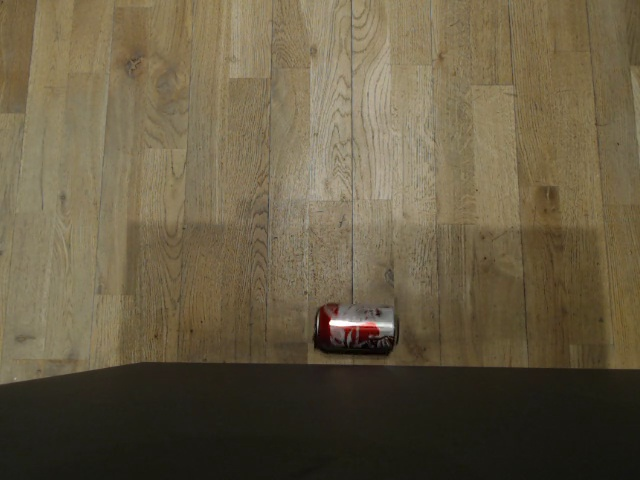cola: (311, 301, 400, 358)
